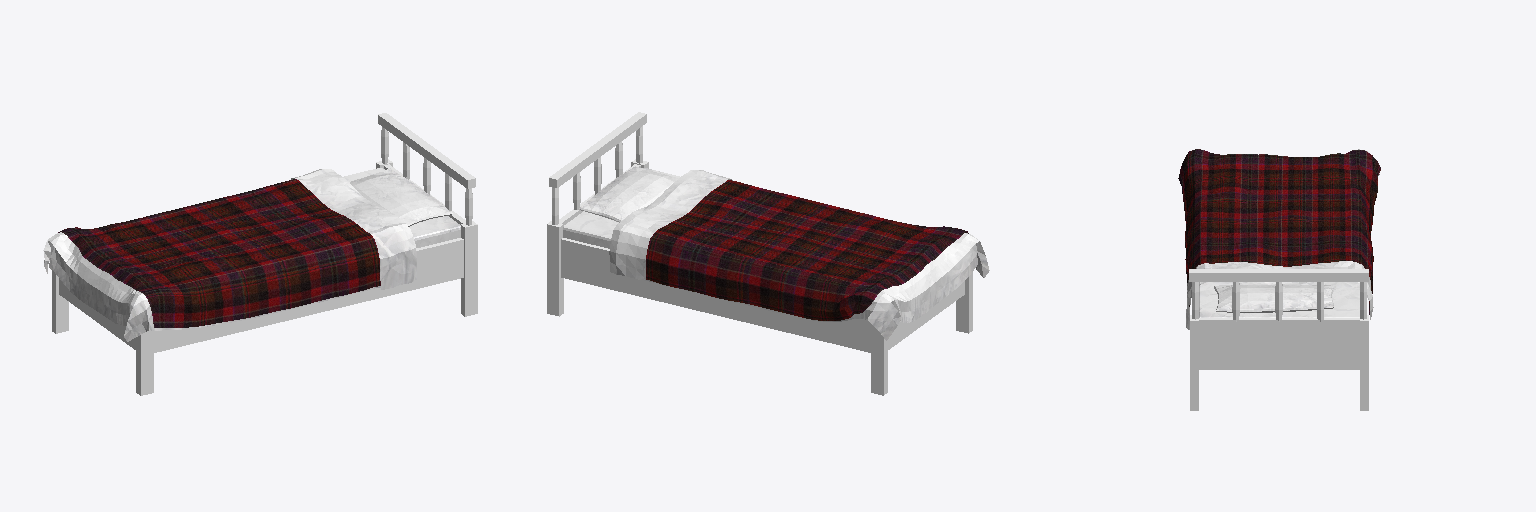
The picture shows the model from 3 angles: view 1: azimuth 30°, elevation 25°; view 2: azimuth 150°, elevation 25°; view 3: azimuth 270°, elevation 25°; orthographic projection.
Parts seen in each view (by area): view 1: Object01, Plane02, Box08, Box16, Box09, Box06, ChamferBox01, Box03, Box02, Box01; view 2: Object01, Plane02, Box07, Box16, Box09, Box05, ChamferBox01, Box01, Box02, Box03; view 3: Object01, Box04, Box16, ChamferBox01, Box09, Plane02, Box05, Box06.
Part boxes in pixels (bbox=[...]): Object01: bbox=[58, 179, 380, 327]; Plane02: bbox=[43, 169, 416, 341]; Box08: bbox=[154, 238, 463, 352]; Box16: bbox=[350, 168, 452, 226]; Box09: bbox=[378, 113, 475, 188]; Box06: bbox=[461, 221, 477, 316]; ChamferBox01: bbox=[344, 168, 460, 247]; Box03: bbox=[136, 330, 153, 395]; Box02: bbox=[59, 278, 135, 349]; Box01: bbox=[52, 270, 68, 333]; Object01: bbox=[646, 180, 968, 320]; Plane02: bbox=[609, 170, 989, 340]; Box07: bbox=[561, 238, 870, 352]; Box16: bbox=[579, 166, 678, 222]; Box09: bbox=[549, 112, 646, 187]; Box05: bbox=[547, 221, 563, 316]; ChamferBox01: bbox=[563, 168, 679, 248]; Box01: bbox=[871, 324, 887, 395]; Box02: bbox=[888, 281, 964, 349]; Box03: bbox=[956, 272, 972, 333]; Object01: bbox=[1178, 149, 1380, 314]; Box04: bbox=[1199, 318, 1359, 369]; Box16: bbox=[1214, 284, 1335, 312]; ChamferBox01: bbox=[1199, 282, 1359, 317]; Box09: bbox=[1189, 269, 1368, 281]; Plane02: bbox=[1186, 149, 1379, 329]; Box05: bbox=[1360, 315, 1368, 410]; Box06: bbox=[1190, 315, 1198, 410].
Bounding box in the file's own units: 2.17 × 0.8014 × 1.08.
4 materials, 2 textured.